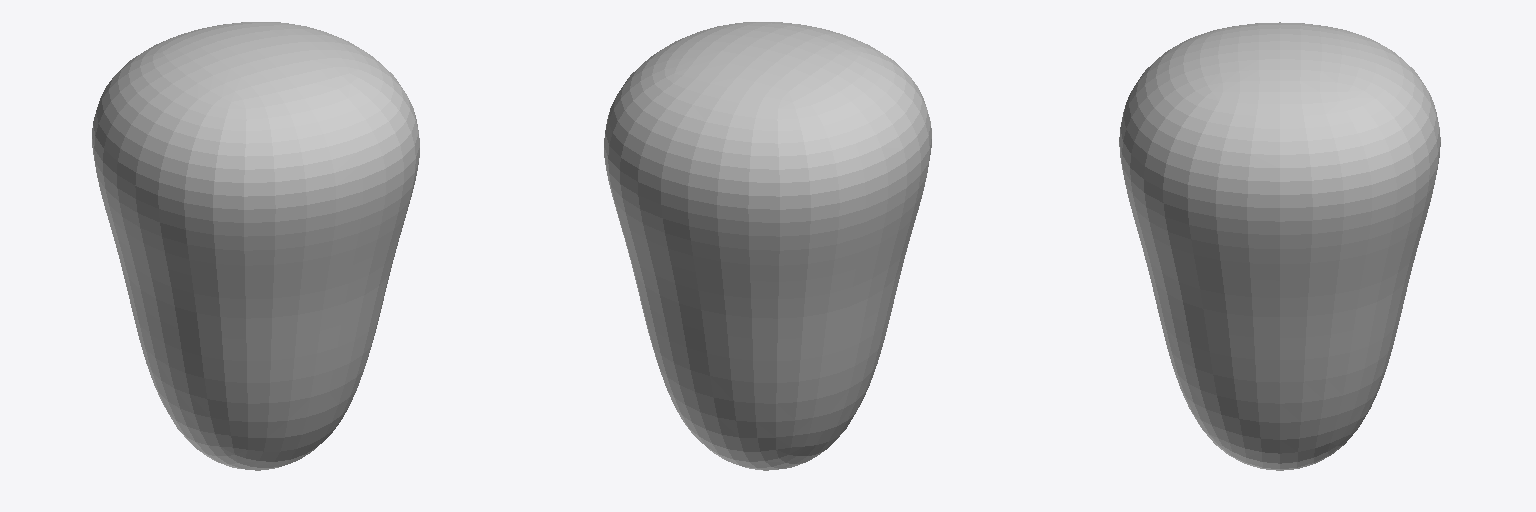
File: robot_body.obj
The picture shows the model from 3 angles: view 1: azimuth 30°, elevation 25°; view 2: azimuth 150°, elevation 25°; view 3: azimuth 270°, elevation 25°; orthographic projection.
Parts seen in each view (by area): view 1: body_Metal; view 2: body_Metal; view 3: body_Metal.
Boxes of the visible parts, x1=… form: body_Metal: x1=92, y1=22, x2=419, y2=470; body_Metal: x1=604, y1=22, x2=931, y2=470; body_Metal: x1=1119, y1=22, x2=1440, y2=470.
Bounding box in the file's own units: 2.09 × 2.96 × 2.09.